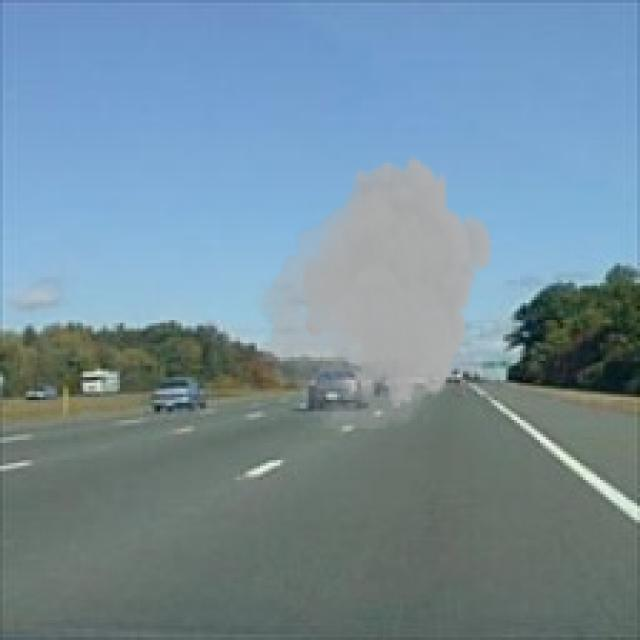Smoke: (252, 152, 494, 428)
